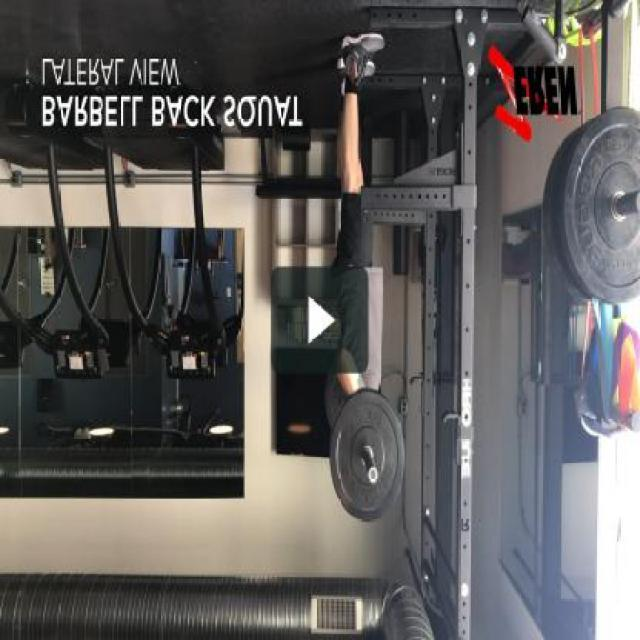Barbell: (366, 464, 379, 486)
